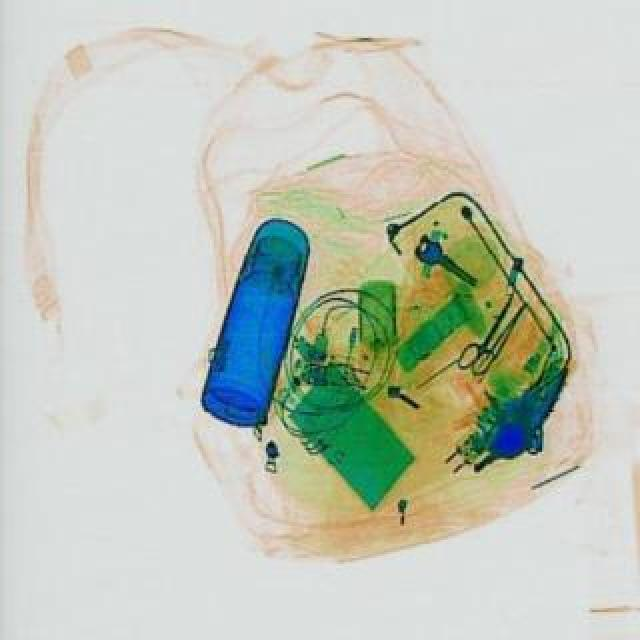pliers: (454, 290, 524, 378)
